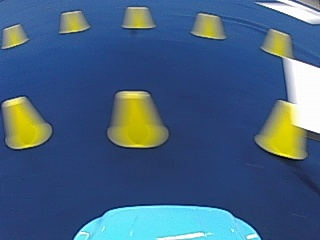cone: (107, 90, 167, 149), (255, 99, 304, 158), (1, 96, 50, 149), (191, 12, 225, 39), (261, 28, 292, 57), (122, 6, 154, 29), (59, 9, 89, 33), (2, 23, 27, 48)
